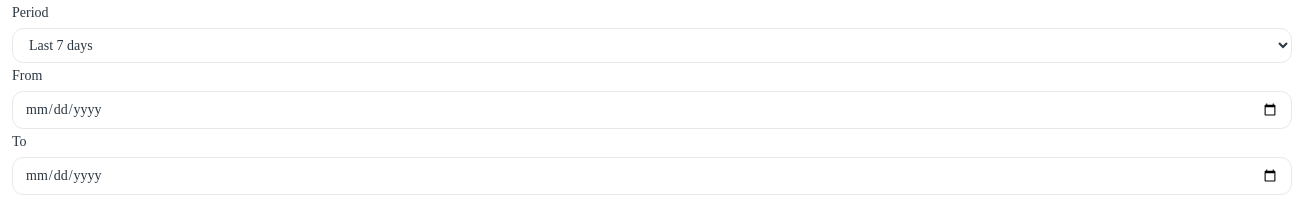
Test: DateRangeControls (V6 audit S1/S14) › S1: once custom, the dates carry names so they are actually submitted
Type "2026-03-01" into the date field labelled "From" at (652,110), box top-left (12, 91), bottom-right (1292, 129)
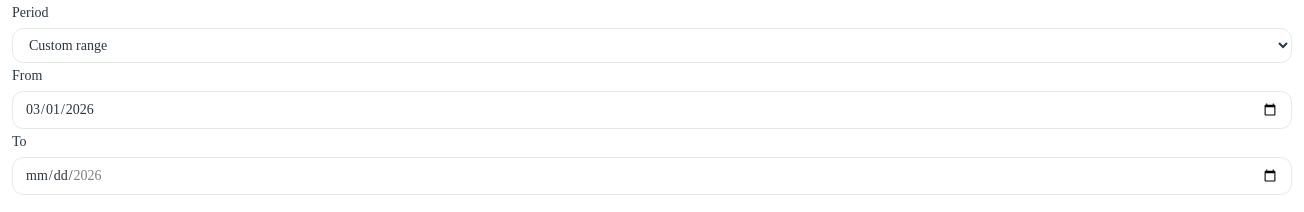
Type "2026-03-31" into the date field labelled "To" at (652,176), box top-left (12, 157), bottom-right (1292, 195)
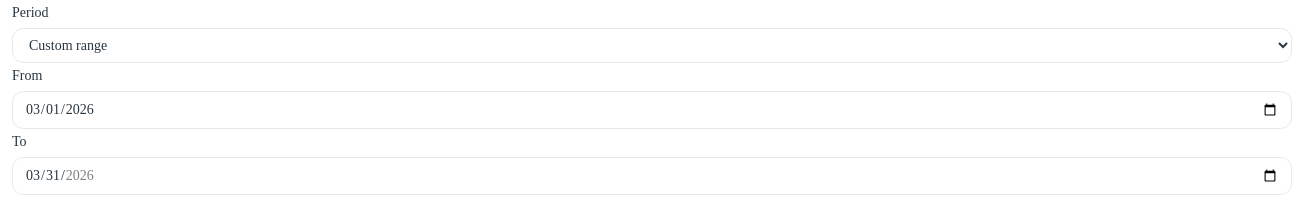
Now the date field labelled "From" has attribute name="from", box top-left (12, 91), bottom-right (1292, 129)
Now the date field labelled "To" has attribute name="to", box top-left (12, 157), bottom-right (1292, 195)
